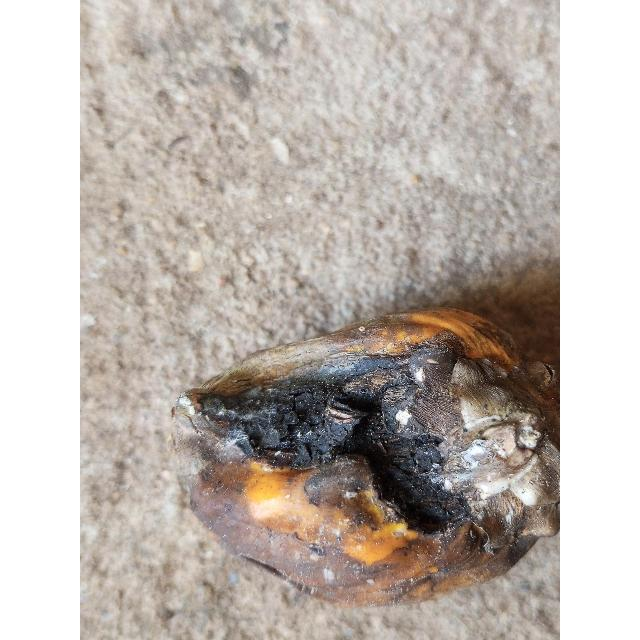damaged: (171, 309, 560, 608)
